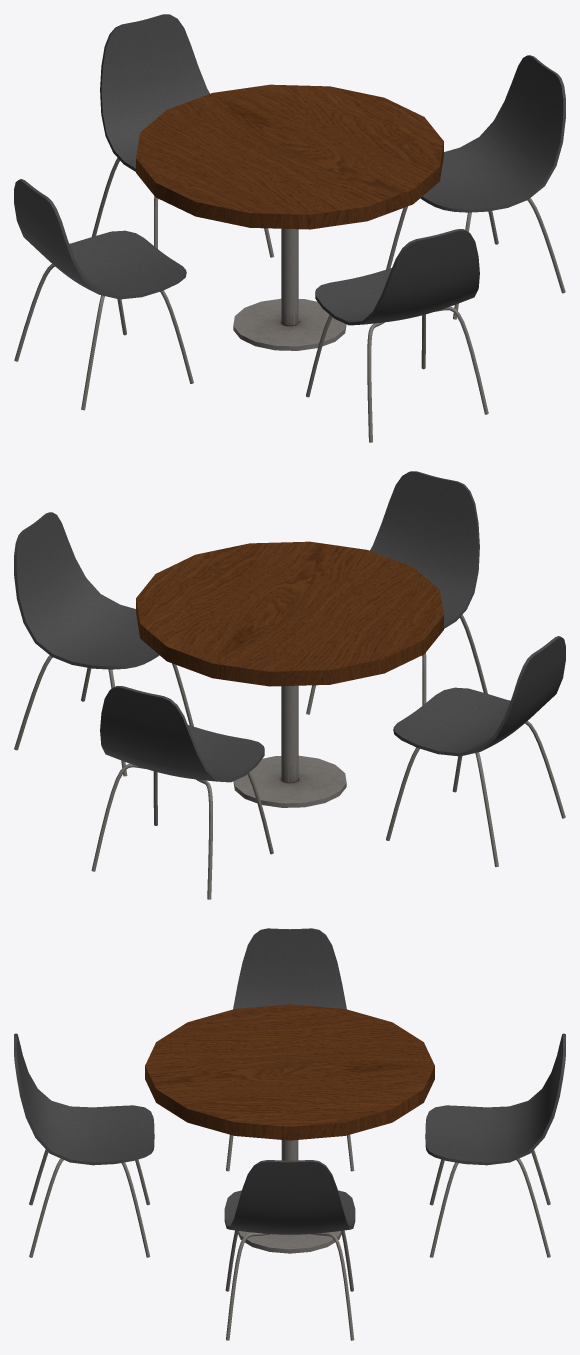
Rendered from Cafeteria_TableSet.fbx.
3 views of the same model, one above another, from view 1: azimuth 30°, elevation 25°; view 2: azimuth 150°, elevation 25°; view 3: azimuth 270°, elevation 25° (orthographic). The views are drawn at different scales.
Parts seen in each view (by area): view 1: CafeteriaTableAndChair.005; view 2: CafeteriaTableAndChair.005; view 3: CafeteriaTableAndChair.005.
Boxes of the visible parts, x1,y1,x2,y2 form: CafeteriaTableAndChair.005: (14,14,565,442); CafeteriaTableAndChair.005: (14,471,565,899); CafeteriaTableAndChair.005: (14,928,565,1340).
Size of the model in its own units: 291 by 109 by 291.
Materials: 1 (1 with a texture image).
